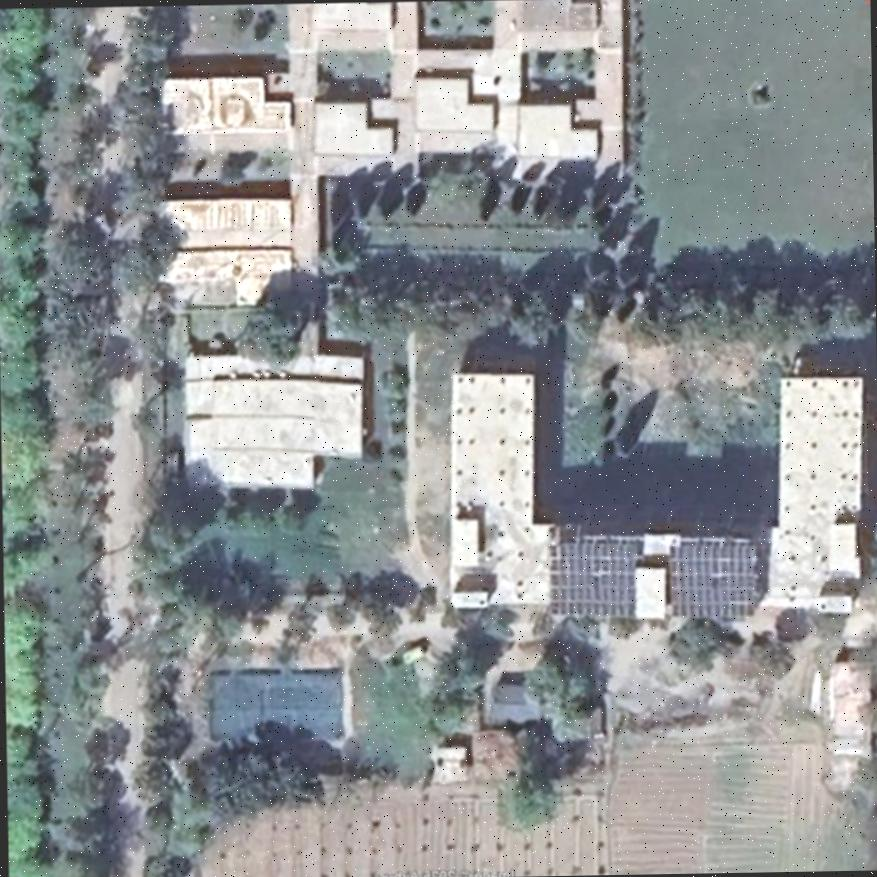Solarpanel: (547, 535, 635, 614), (664, 543, 756, 618)
